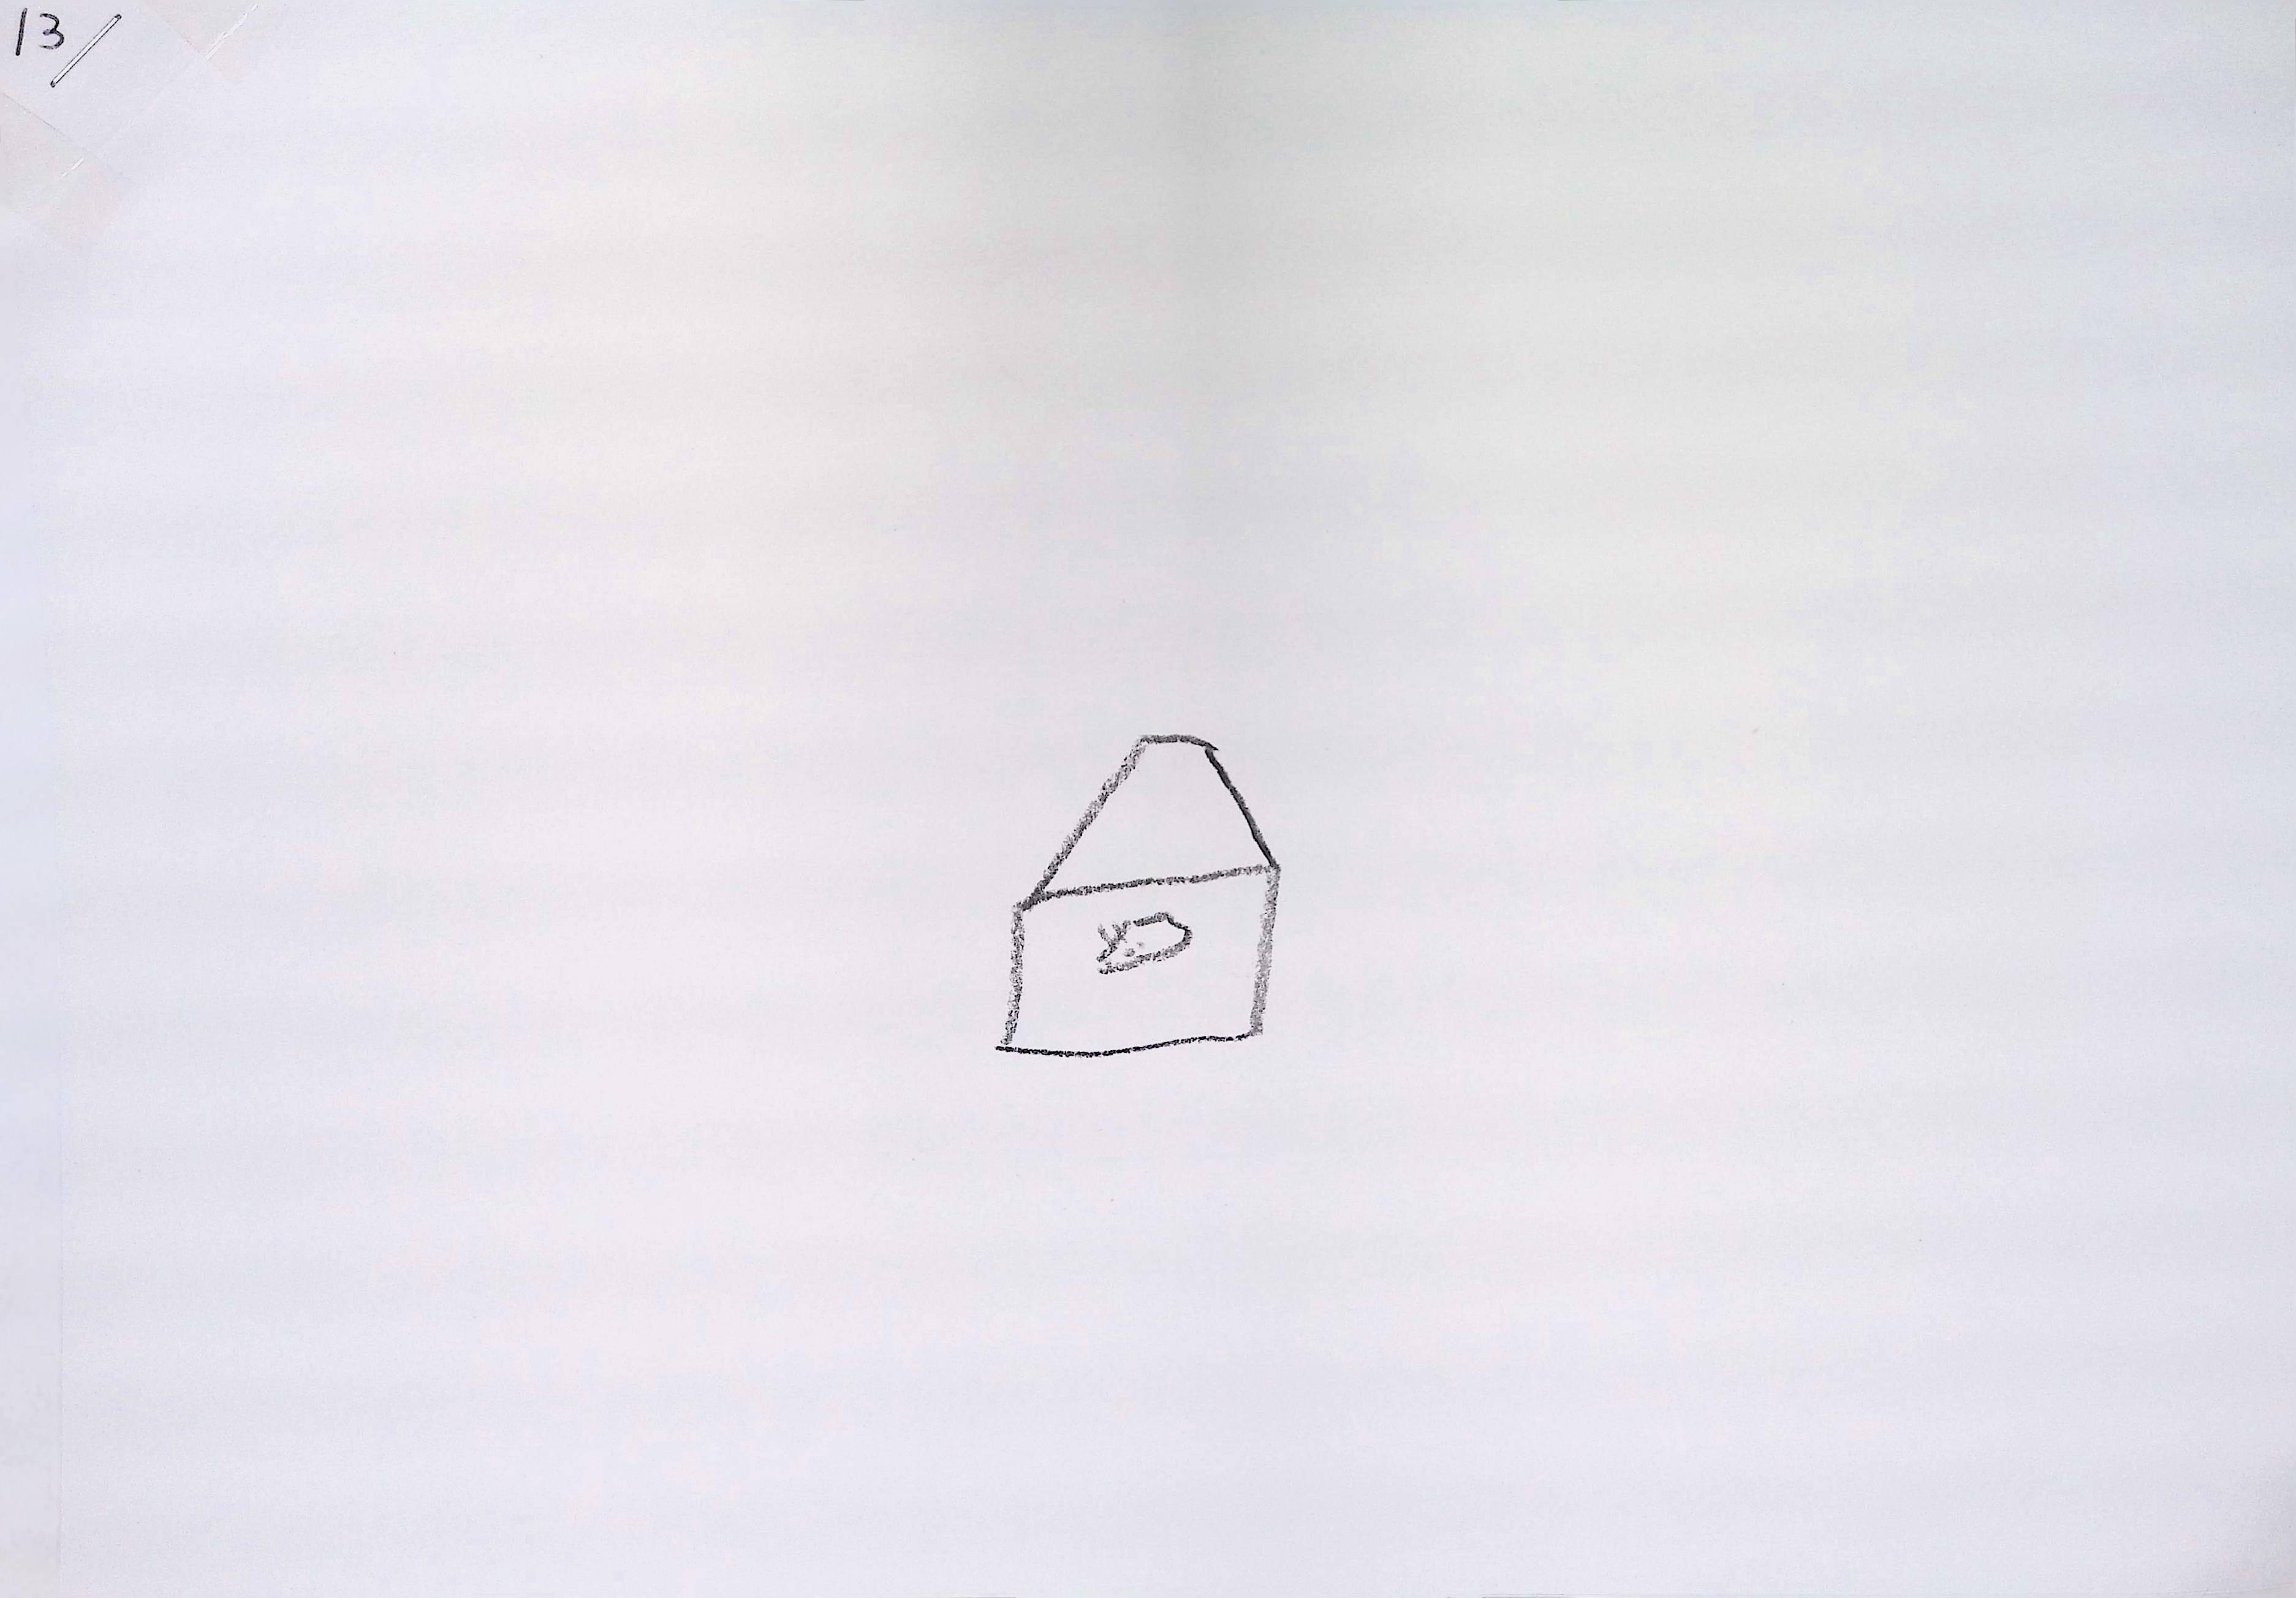house: (1000, 736, 1279, 1054)
roof: (1012, 734, 1279, 918)
wall: (1010, 872, 1268, 1054)
window: (1097, 911, 1193, 973)
